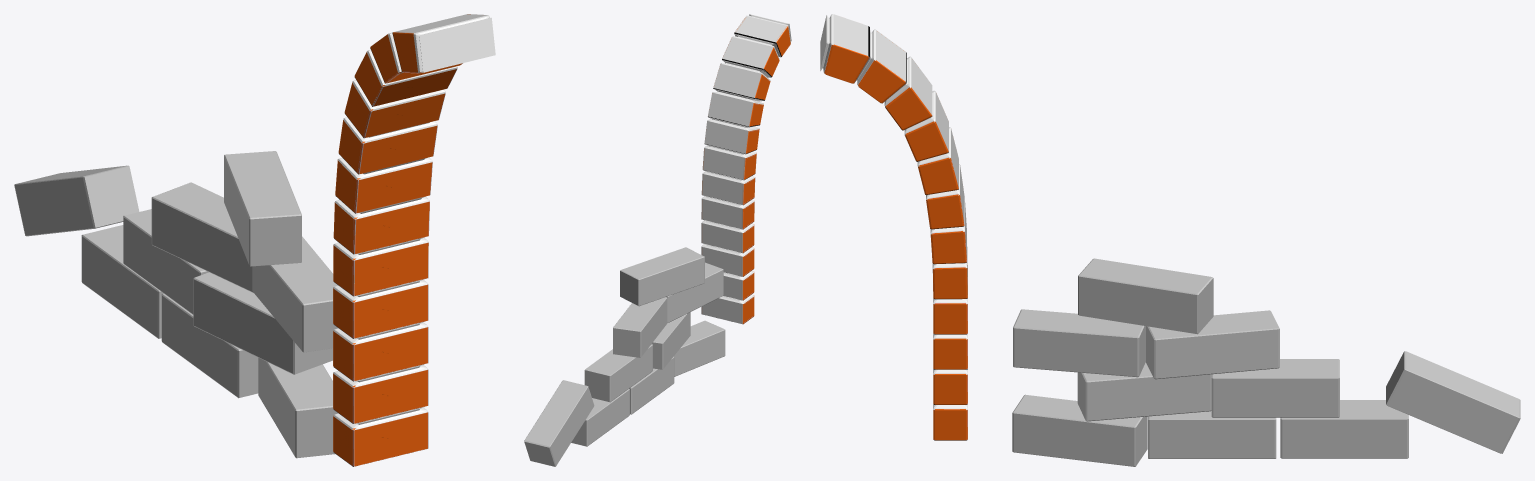
Rendered from new_ruin_tex.obj.
3 renders of one model, left to right at view 1: azimuth 30°, elevation 25°; view 2: azimuth 150°, elevation 25°; view 3: azimuth 270°, elevation 25°, orthographic. The views are drawn at different scales.
Parts seen in each view (by area): view 1: Cube.006; view 2: Cube.006; view 3: Cube.006.
Boxes of the visible parts, x1=… form: Cube.006: x1=14, y1=14, x2=495, y2=466; Cube.006: x1=524, y1=14, x2=791, y2=466; Cube.006: x1=820, y1=14, x2=1520, y2=466.
Bounding box in the file's own units: 1.74 × 9.5 × 14.27.
